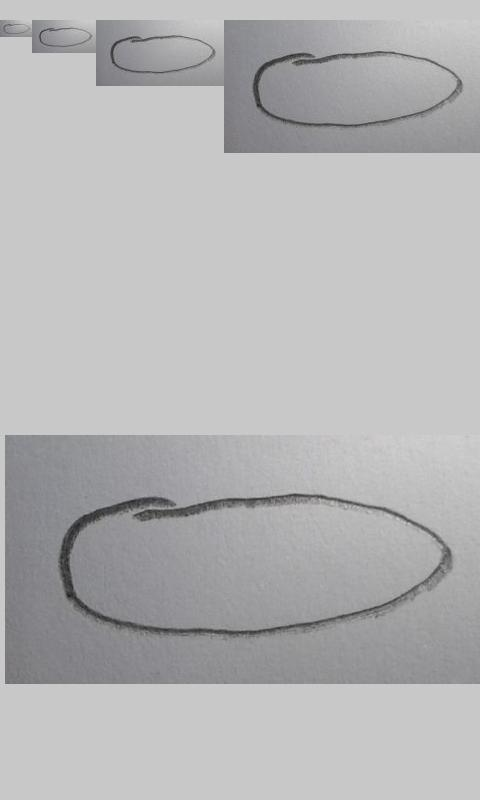chip: (59, 493, 453, 641), (252, 51, 463, 128), (110, 35, 216, 74), (39, 27, 92, 48), (3, 23, 31, 34)
